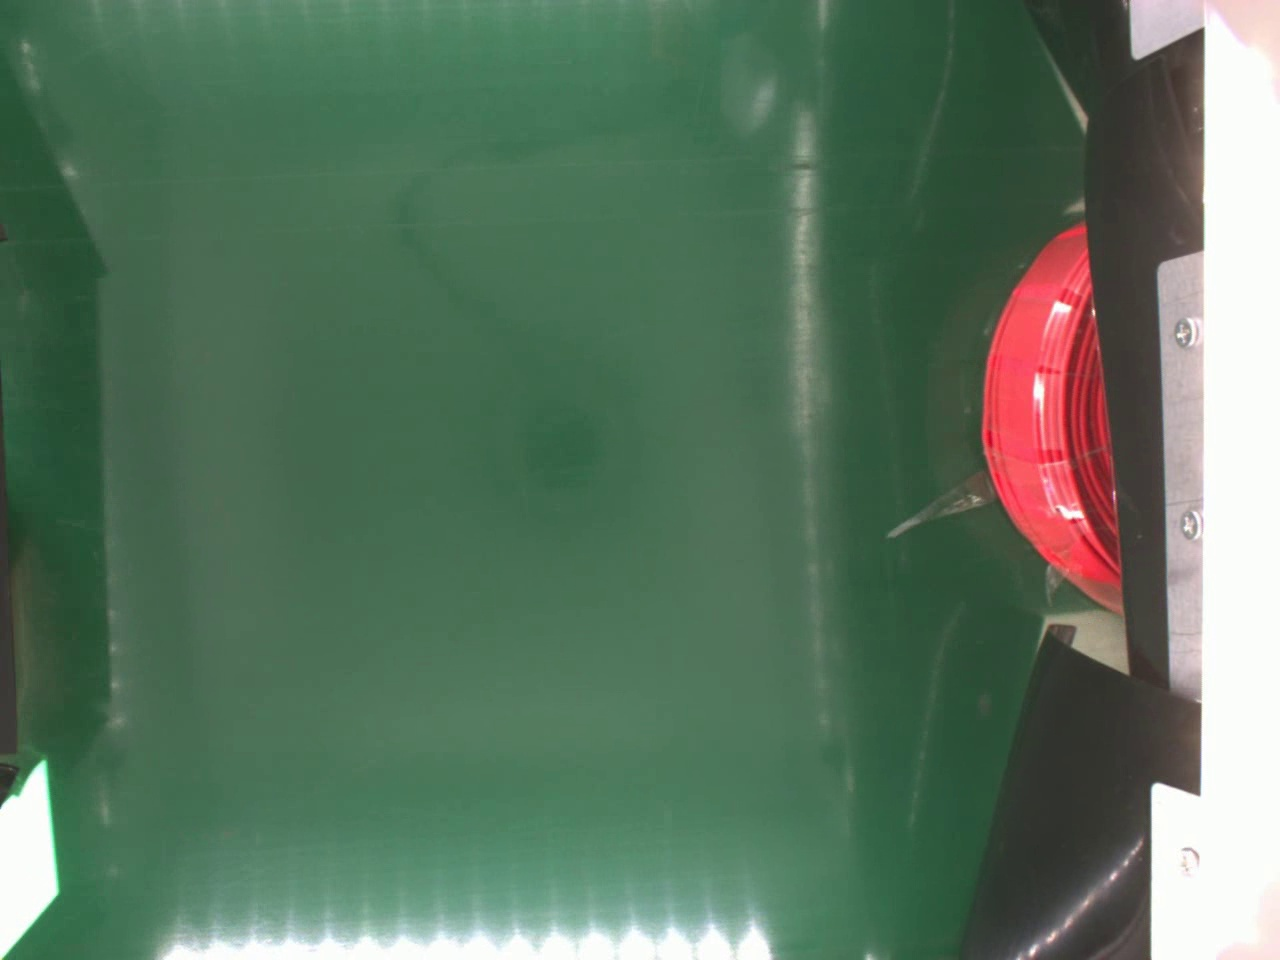red: (981, 220, 1124, 591)
